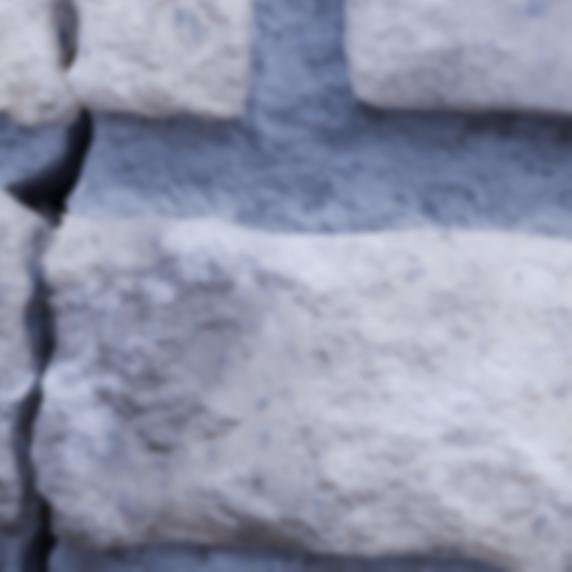brick: (344, 0, 571, 116)
broken_brick: (32, 213, 571, 571), (68, 0, 253, 121), (0, 0, 77, 127), (0, 190, 27, 528)
crack: (1, 0, 96, 571)
